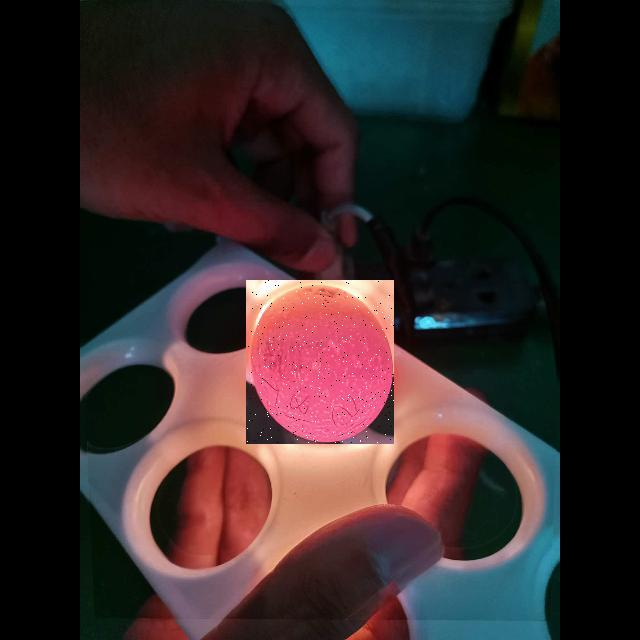Infertile: (246, 280, 394, 444)
